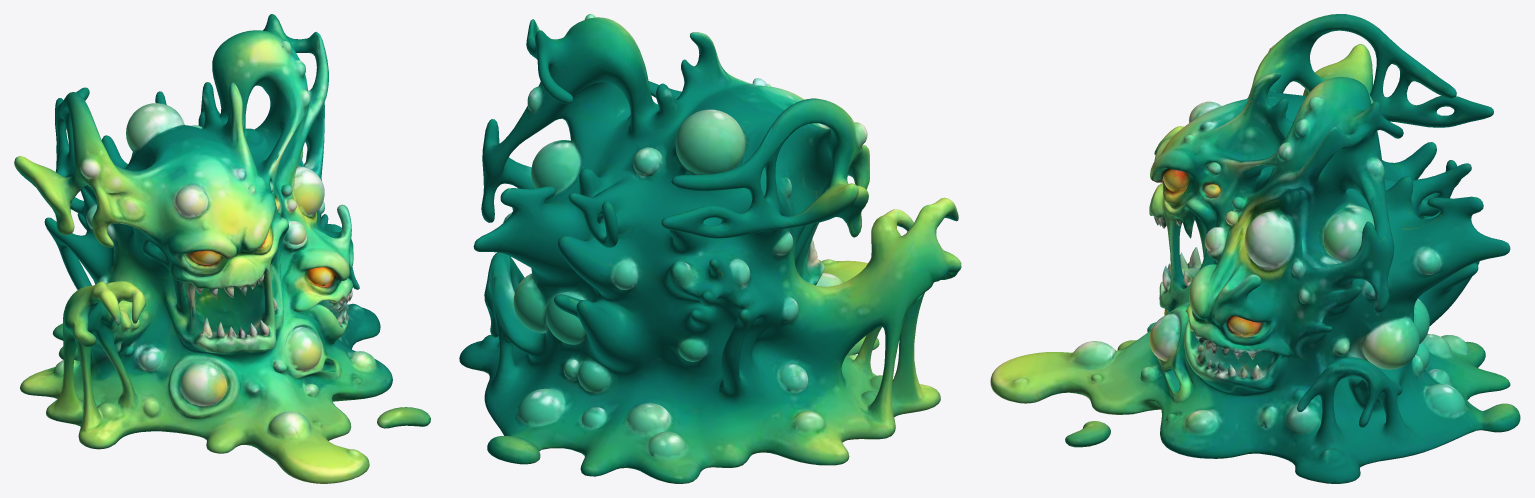
Rendered from slime.glb.
3 renders of one model, left to right at view 1: azimuth 30°, elevation 25°; view 2: azimuth 150°, elevation 25°; view 3: azimuth 270°, elevation 25°, orthographic. The views are drawn at different scales.
Parts seen in each view (by area): view 1: material; view 2: material; view 3: material.
Part boxes in pixels (x1,y1,x2,y2): material: (14, 14, 430, 483); material: (459, 14, 961, 483); material: (990, 14, 1520, 483).
Size of the model in its own units: 0.8182 by 0.6779 by 0.9527.
Materials: 1 (1 with a texture image).
